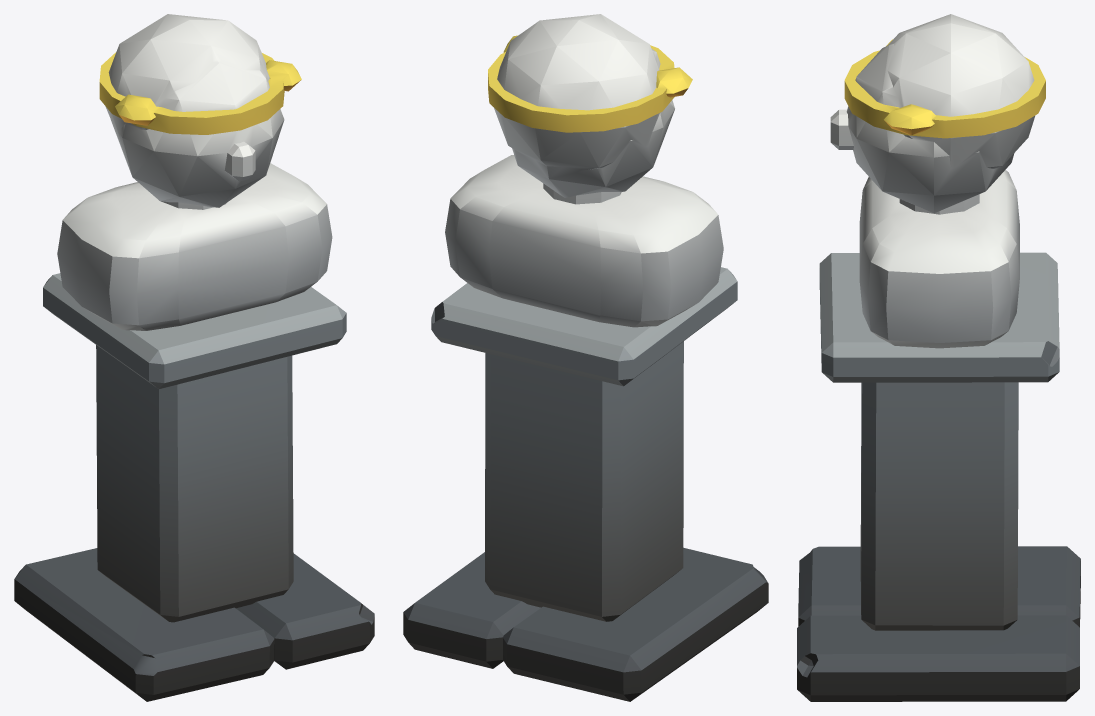
The model's file is bust_pedestal.glb.
3 renders of one model, left to right at view 1: azimuth 30°, elevation 25°; view 2: azimuth 150°, elevation 25°; view 3: azimuth 270°, elevation 25°, orthographic. The views are drawn at different scales.
Visible parts, largest first — view 1: Item; view 2: Item; view 3: Item.
Boxes of the visible parts, x1,y1,x2,y2 form: Item: (14, 14, 374, 701); Item: (403, 14, 768, 701); Item: (797, 14, 1080, 701).
Size of the model in its own units: 1.01 by 2.47 by 1.01.
2 materials, 2 textured.
